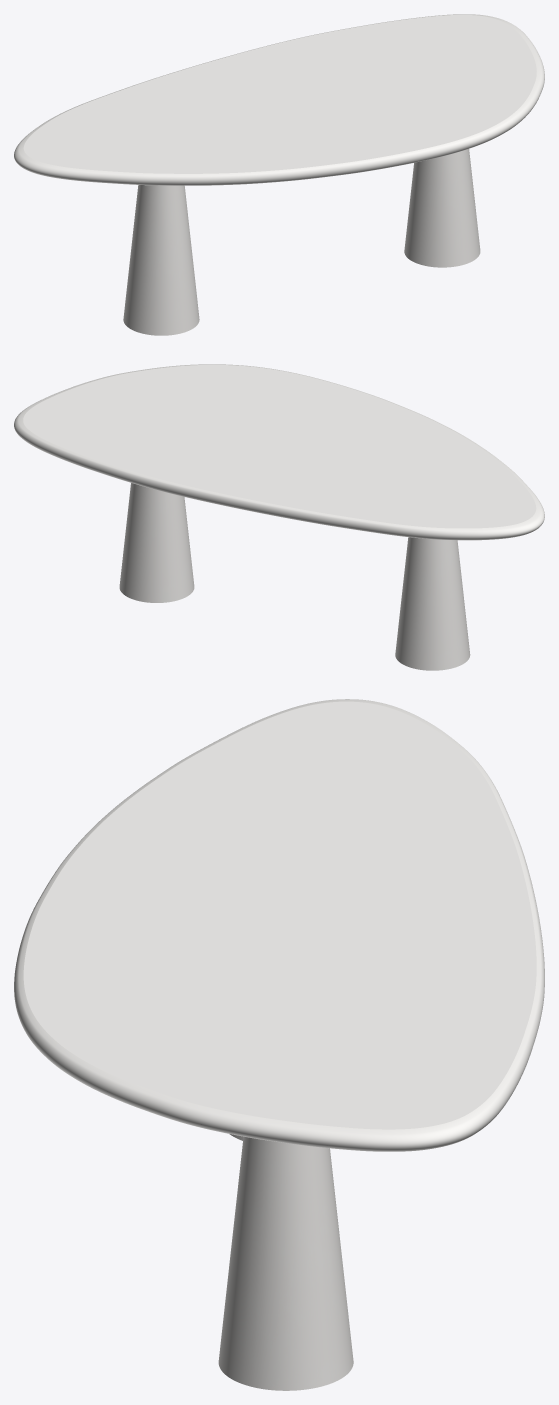
File: purewhite_pebbletop_round_pebble.glb
The picture shows the model from 3 angles, top to bottom: view 1: azimuth 30°, elevation 25°; view 2: azimuth 150°, elevation 25°; view 3: azimuth 270°, elevation 25°; orthographic projection. The views are drawn at different scales.
Parts seen in each view (by area): view 1: round_pebbletop, pebble; view 2: round_pebbletop, pebble; view 3: round_pebbletop, pebble.
Part boxes in pixels (bbox=[...]): round_pebbletop: bbox=[14, 14, 544, 185]; pebble: bbox=[123, 149, 480, 335]; round_pebbletop: bbox=[14, 364, 544, 540]; pebble: bbox=[119, 483, 470, 670]; round_pebbletop: bbox=[14, 699, 544, 1151]; pebble: bbox=[218, 1134, 353, 1390].
Bounding box in the file's own units: 7.5 × 2.51 × 3.8.
1 material, 1 textured.
